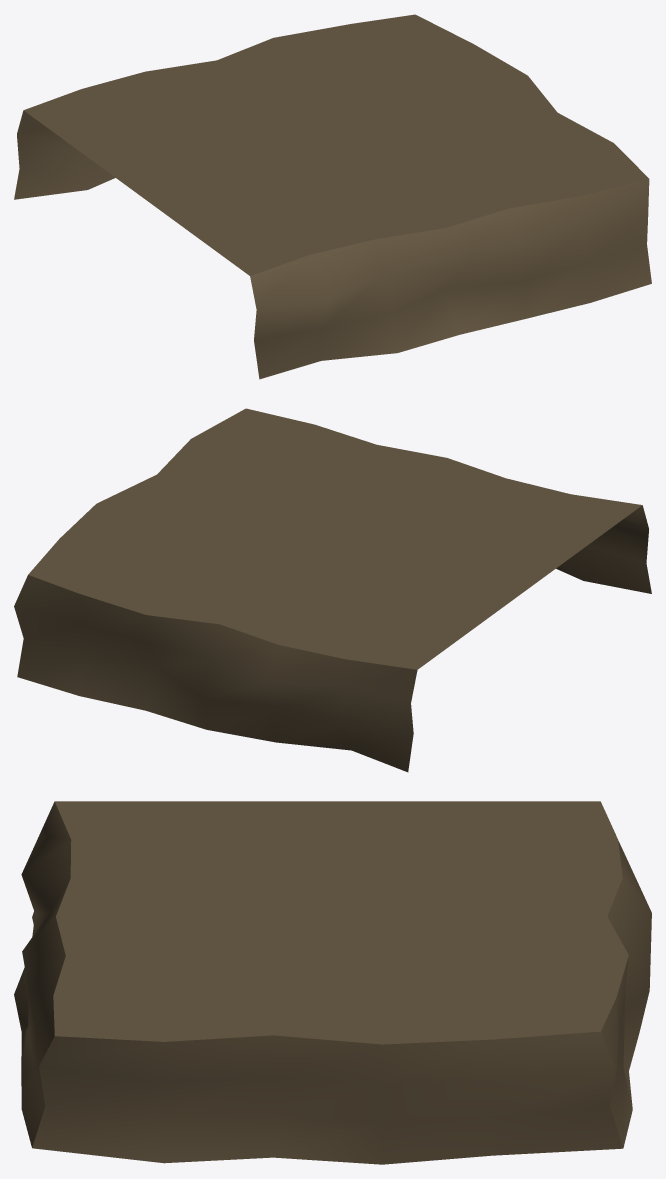
The model's file is floor_edge_triple.fbx.
3 views of the same model, one above another, from view 1: azimuth 30°, elevation 25°; view 2: azimuth 150°, elevation 25°; view 3: azimuth 270°, elevation 25° (orthographic). The views are drawn at different scales.
Visible parts, largest first — view 1: cave_edge_triple; view 2: cave_edge_triple; view 3: cave_edge_triple.
Boxes of the visible parts, left/top/right/bottom form: cave_edge_triple: left=14, top=14, right=651, bottom=379; cave_edge_triple: left=14, top=408, right=651, bottom=772; cave_edge_triple: left=14, top=801, right=651, bottom=1164.
Bounding box in the file's own units: 717 × 162 × 789.
